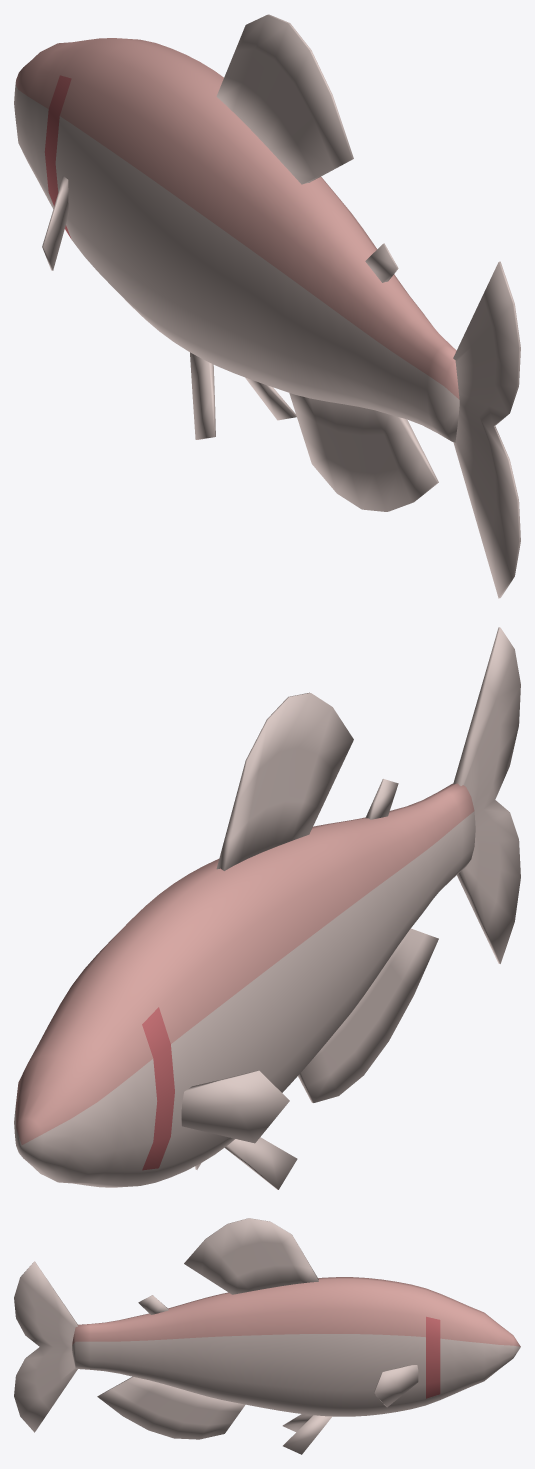
The model's file is cave_tetra.glb.
The picture shows the model from 3 angles, top to bottom: view 1: azimuth 30°, elevation 25°; view 2: azimuth 150°, elevation 25°; view 3: azimuth 270°, elevation 25°; orthographic projection. The views are drawn at different scales.
Visible parts, largest first — view 1: cave_tetra; view 2: cave_tetra; view 3: cave_tetra.
Part boxes in pixels (<box>): cave_tetra: <box>14,14,520,598</box>; cave_tetra: <box>14,627,520,1189</box>; cave_tetra: <box>14,1218,520,1454</box>.
Size of the model in its own units: 0.6058 by 1.04 by 2.11.
